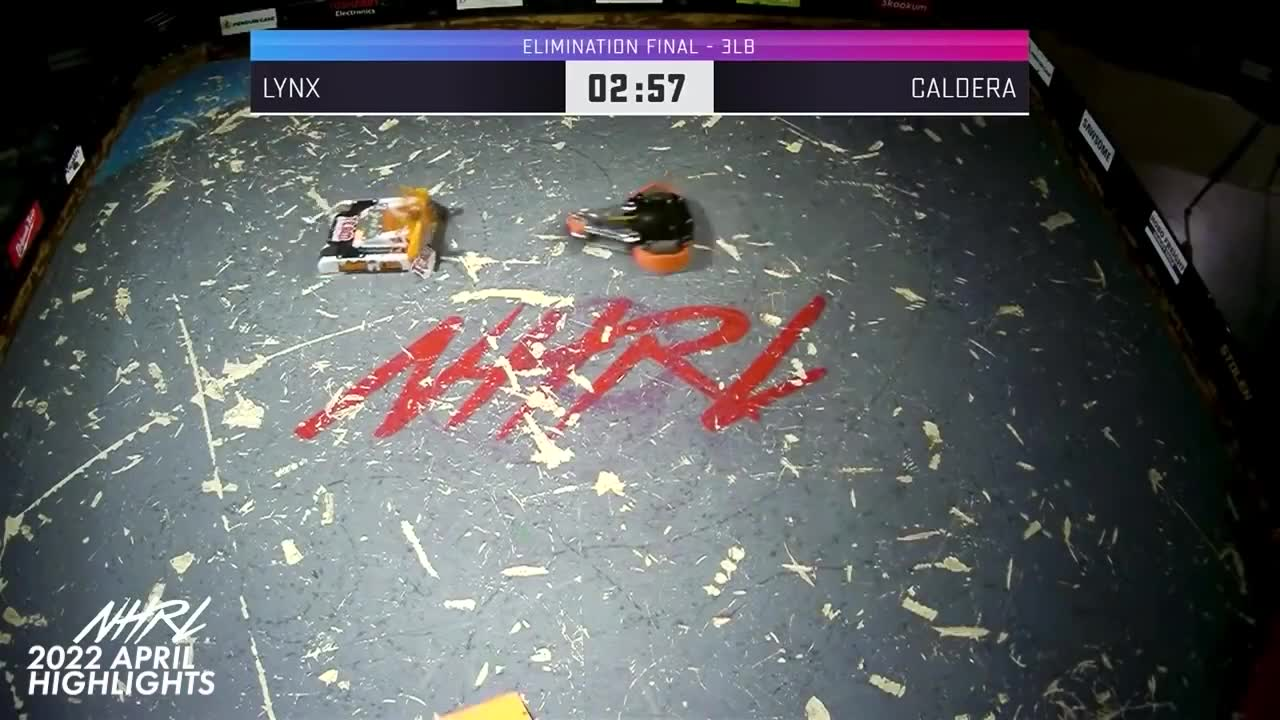combatbot: (564, 185, 697, 273), (318, 191, 445, 280)
